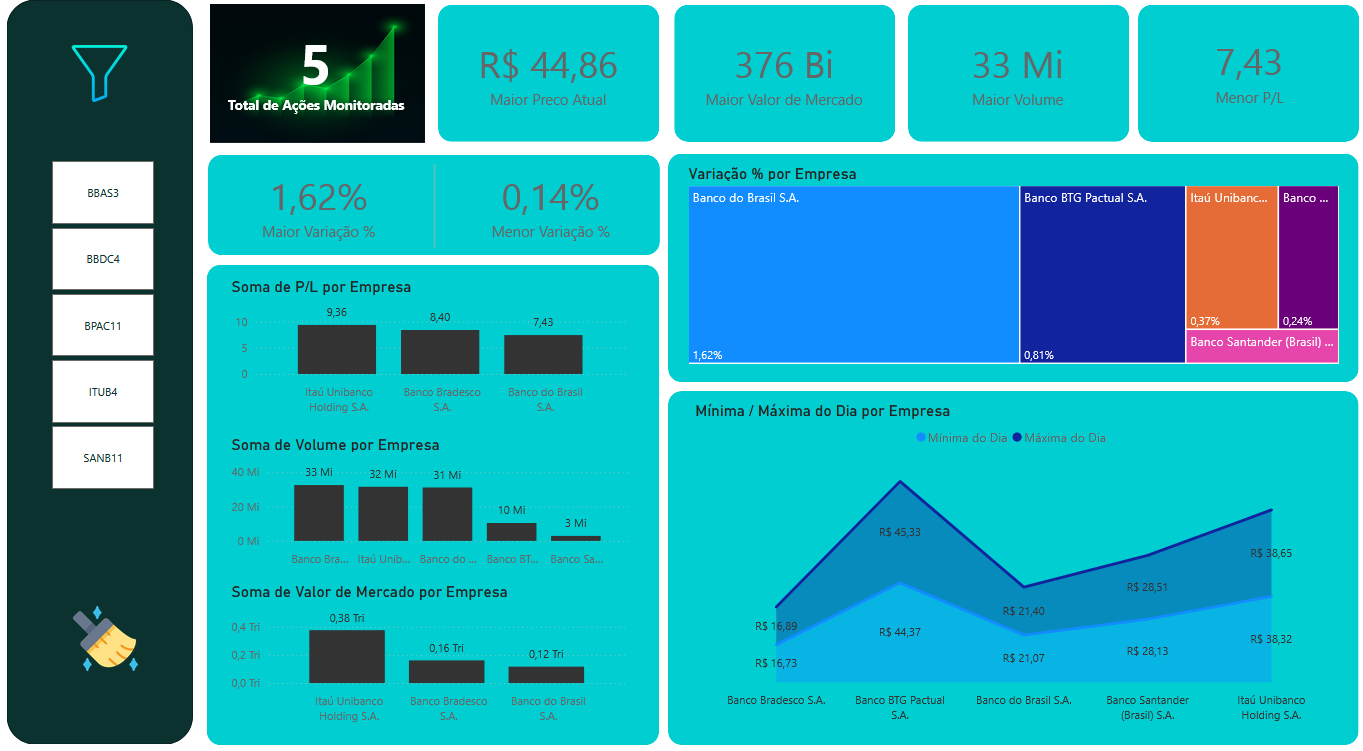

What the dashboard file says about the page in this screenshot:
{"tool":"powerbi","page":{"name":"Ações","canvas":[1500,840],"ordinal":0},"visuals":[{"type":"shape","box":[998.6,20.1,240.1,148.8],"z":0},{"type":"shape","box":[744.2,20.3,240,148.8],"z":1000},{"type":"shape","box":[1248.4,20.3,240,148.8],"z":2000},{"type":"shape","box":[488.9,20.1,240.1,148.8],"z":3000},{"type":"shape","box":[238.6,182.7,490.5,109.2],"z":4000},{"type":"image","box":[236.3,15.4,243.2,161],"z":5000},{"type":"card","fields":{"Values":["Medidas.Maior Preco Atual"]},"box":[504.8,38.3,207.9,113.6],"z":6000},{"type":"card","fields":{"Values":["Medidas.Maior Volume"]},"box":[1020.7,38.3,195.9,113.6],"z":7000},{"type":"card","fields":{"Values":["Medidas.Maior Valor de Mercado"]},"box":[757.5,38.3,215.3,113.6],"z":8000},{"type":"card","fields":{"Values":["Medidas.Menor P/L"]},"box":[1265.9,38.3,207.9,109.2],"z":9000},{"type":"card","fields":{"Values":["Medidas.Maior Variação %"]},"box":[259.3,192,200.4,91.2],"z":10000},{"type":"card","fields":{"Values":["Medidas.Menor Variação %"]},"box":[515,192,191.4,91.2],"z":11000},{"type":"card","fields":{"Values":["Medidas.Total de Ações Monitoradas"]},"box":[250,37.7,214,106.2],"z":12000},{"type":"shape","box":[452.1,192,65.8,91.2],"z":13000},{"type":"shape","box":[236.8,302,491,521.6],"z":14000},{"type":"shape","box":[738,182.2,749.6,248.4],"z":15000},{"type":"shape","box":[738,439.4,749.6,384.3],"z":16000},{"type":"clusteredColumnChart","fields":{"Category":["dados_tratados.Empresa"],"Y":["Sum(dados_tratados.P/L)"]},"box":[258.8,316.6,441.3,156.3],"z":17000},{"type":"columnChart","fields":{"Category":["dados_tratados.Empresa"],"Y":["Sum(dados_tratados.Volume)"]},"box":[258.8,487.6,441.3,150.5],"z":18000},{"type":"columnChart","fields":{"Category":["dados_tratados.Empresa"],"Y":["Sum(dados_tratados.Valor de Mercado)"]},"box":[258.8,646.8,441.3,160.7],"z":19000},{"type":"treemap","title":"Variação % por Empresa","fields":{"Group":["dados_tratados.Empresa"],"Values":["Sum(dados_tratados.Variação %)"]},"box":[755.6,192.4,716,222.1],"z":20000},{"type":"stackedAreaChart","title":"Mínima / Máxima do Dia por Empresa","fields":{"Category":["dados_tratados.Empresa"],"Y":["Sum(dados_tratados.Mínima do Dia)","Sum(dados_tratados.Máxima do Dia)"]},"box":[762.9,451,699.9,356.5],"z":21000},{"type":"shape","box":[20.5,15.4,202.1,808.2],"z":22000},{"type":"slicer","fields":{"Values":["dados_tratados.Ticker"]},"box":[42.8,183.2,161,369.9],"z":23000},{"type":"image","box":[85.6,667.8,83.9,80.5],"z":24000},{"type":"image","box":[85.6,58.2,71.9,73.6],"z":25000}]}

Visuals, with their boxes in screenshot pixels (x1, y1, x2, y2), scaled from the page's 1500x840 canvas onto the 1363x751 screenshot:
shape: 907, 18, 1126, 151
shape: 676, 18, 894, 151
shape: 1134, 18, 1352, 151
shape: 444, 18, 662, 151
shape: 217, 163, 663, 261
image: 215, 14, 436, 158
card - Medidas.Maior Preco Atual: 459, 34, 648, 136
card - Medidas.Maior Volume: 927, 34, 1105, 136
card - Medidas.Maior Valor de Mercado: 688, 34, 884, 136
card - Medidas.Menor P/L: 1150, 34, 1339, 132
card - Medidas.Maior Variação %: 236, 172, 418, 253
card - Medidas.Menor Variação %: 468, 172, 642, 253
card - Medidas.Total de Ações Monitoradas: 227, 34, 422, 129
shape: 411, 172, 471, 253
shape: 215, 270, 661, 736
shape: 671, 163, 1352, 385
shape: 671, 393, 1352, 736
clusteredColumnChart - dados_tratados.Empresa x Sum(dados_tratados.P/L): 235, 283, 636, 423
columnChart - dados_tratados.Empresa x Sum(dados_tratados.Volume): 235, 436, 636, 570
columnChart - dados_tratados.Empresa x Sum(dados_tratados.Valor de Mercado): 235, 578, 636, 722
"Variação % por Empresa" treemap: 687, 172, 1337, 371
"Mínima / Máxima do Dia por Empresa" stackedAreaChart: 693, 403, 1329, 722
shape: 19, 14, 202, 736
slicer - dados_tratados.Ticker: 39, 164, 185, 494
image: 78, 597, 154, 669
image: 78, 52, 143, 118
